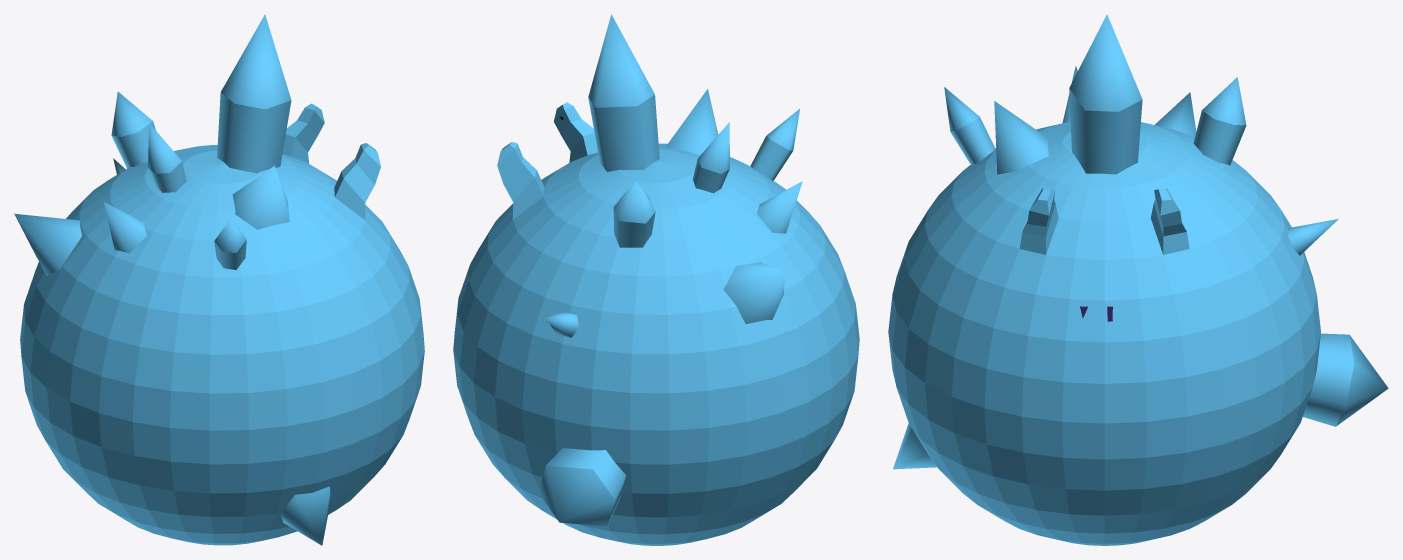
File: Crystal Slime Idle.fbx
The picture shows the model from 3 angles, left to right: view 1: azimuth 30°, elevation 25°; view 2: azimuth 150°, elevation 25°; view 3: azimuth 270°, elevation 25°; orthographic projection. The views are drawn at different scales.
Visible parts, largest first — view 1: pCylinder6; view 2: pCylinder6; view 3: pCylinder6.
Boxes of the visible parts, bbox=[...] form: pCylinder6: bbox=[14, 14, 424, 545]; pCylinder6: bbox=[453, 14, 859, 545]; pCylinder6: bbox=[888, 14, 1388, 545].
Size of the model in its own units: 228 by 311 by 263.
